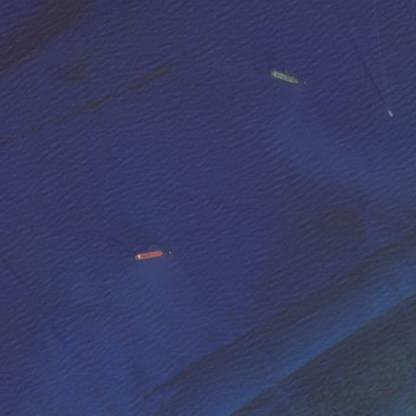ship: (263, 64, 303, 90), (128, 245, 170, 265), (382, 102, 396, 126)
